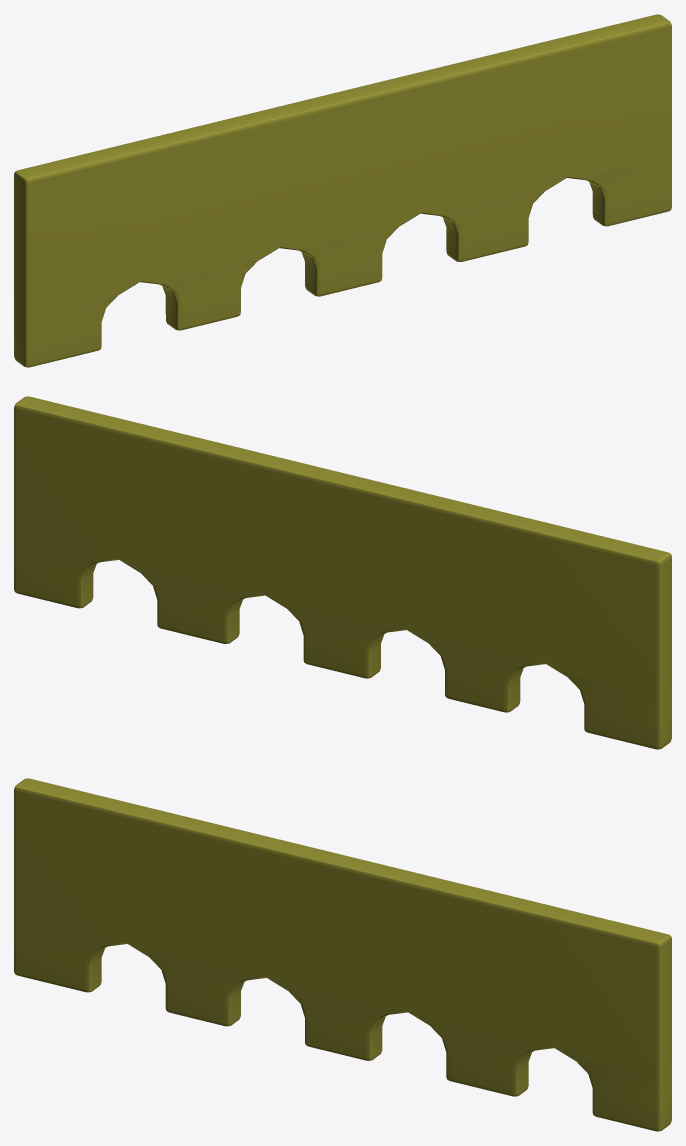
File: FM_H_Doll_Arch_Design_001.fbx
The picture shows the model from 3 angles, top to bottom: view 1: azimuth 30°, elevation 25°; view 2: azimuth 150°, elevation 25°; view 3: azimuth 330°, elevation 25°; orthographic projection.
Parts seen in each view (by area): view 1: H_Doll_Arch_Design_001; view 2: H_Doll_Arch_Design_001; view 3: H_Doll_Arch_Design_001.
Part boxes in pixels (x1=…): H_Doll_Arch_Design_001: x1=14, y1=14, x2=671, y2=367; H_Doll_Arch_Design_001: x1=14, y1=396, x2=671, y2=749; H_Doll_Arch_Design_001: x1=14, y1=778, x2=671, y2=1131.
Bounding box in the file's own units: 4.3 × 1.21 × 0.1588.
